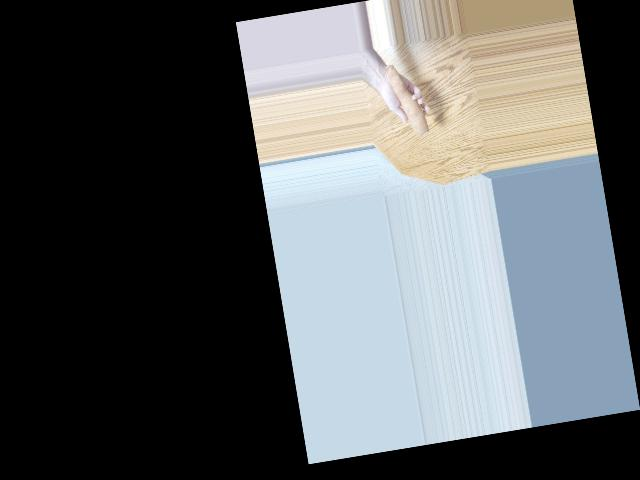sweet_potato: (383, 61, 431, 138)
